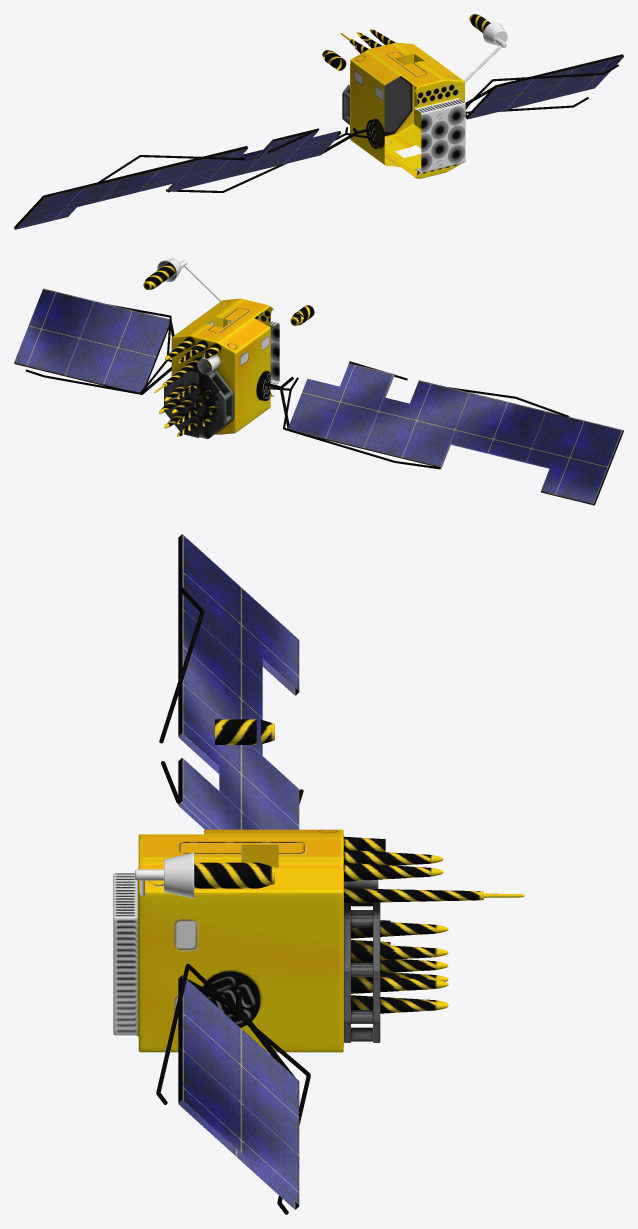
Rendered from satelite.glb.
The picture shows the model from 3 angles, top to bottom: view 1: azimuth 30°, elevation 25°; view 2: azimuth 150°, elevation 25°; view 3: azimuth 270°, elevation 25°; orthographic projection. The views are drawn at different scales.
Visible parts, largest first — view 1: 10477_Satellite_v1_L3; view 2: 10477_Satellite_v1_L3; view 3: 10477_Satellite_v1_L3.
Boxes of the visible parts, <box> form: 10477_Satellite_v1_L3: <box>14,14,623,229</box>; 10477_Satellite_v1_L3: <box>14,258,623,505</box>; 10477_Satellite_v1_L3: <box>113,534,524,1214</box>.
Bounding box in the file's own units: 3916 × 811 × 1204.
Materials: 1 (1 with a texture image).
